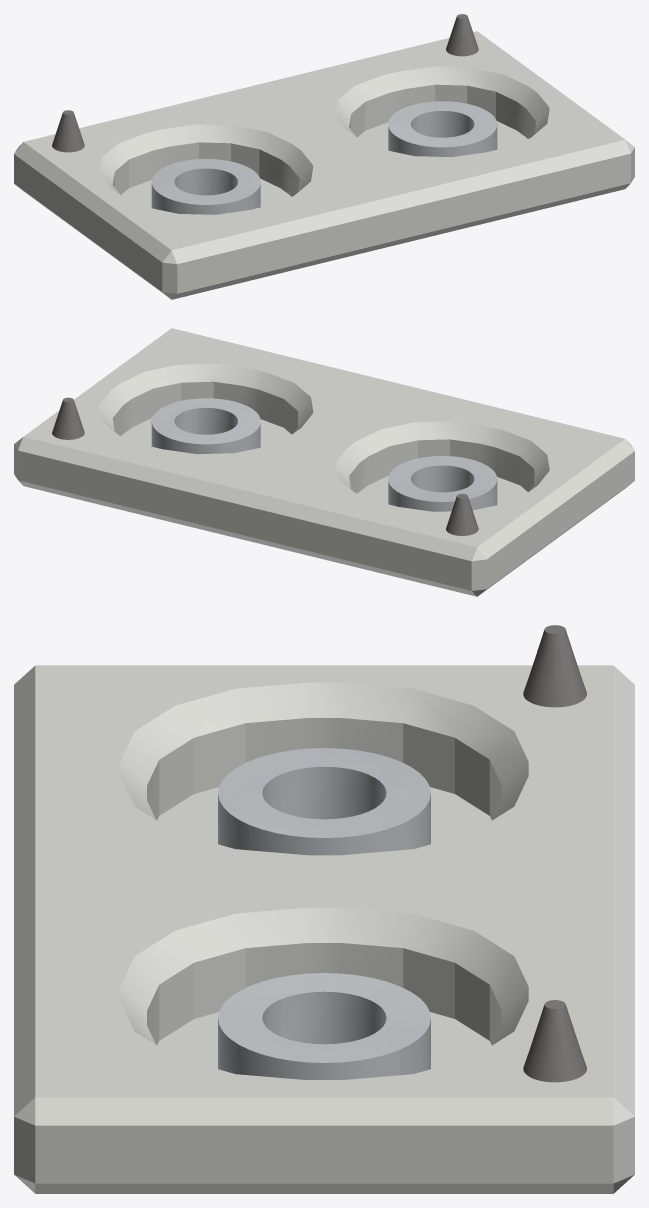
File: ax_util_28_prop_umbilical.glb
The picture shows the model from 3 angles, top to bottom: view 1: azimuth 30°, elevation 25°; view 2: azimuth 150°, elevation 25°; view 3: azimuth 270°, elevation 25°; orthographic projection. The views are drawn at different scales.
Parts seen in each view (by area): view 1: panel, couplings, guide_cones; view 2: panel, couplings, guide_cones; view 3: panel, couplings, guide_cones.
Part boxes in pixels (left/top/right/bottom): panel: left=14, top=31, right=634, bottom=299; couplings: left=151, top=101, right=497, bottom=214; guide_cones: left=52, top=14, right=478, bottom=152; panel: left=14, top=328, right=634, bottom=596; couplings: left=151, top=398, right=497, bottom=511; guide_cones: left=52, top=397, right=478, bottom=535; panel: left=14, top=665, right=634, bottom=1193; couplings: left=218, top=748, right=430, bottom=1079; guide_cones: left=523, top=625, right=586, bottom=1082.
Size of the model in its own units: 0.6 by 0.1 by 0.35.
Materials: 3 (2 with a texture image).
